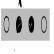correct: (28, 15, 34, 34), (16, 15, 22, 34)
